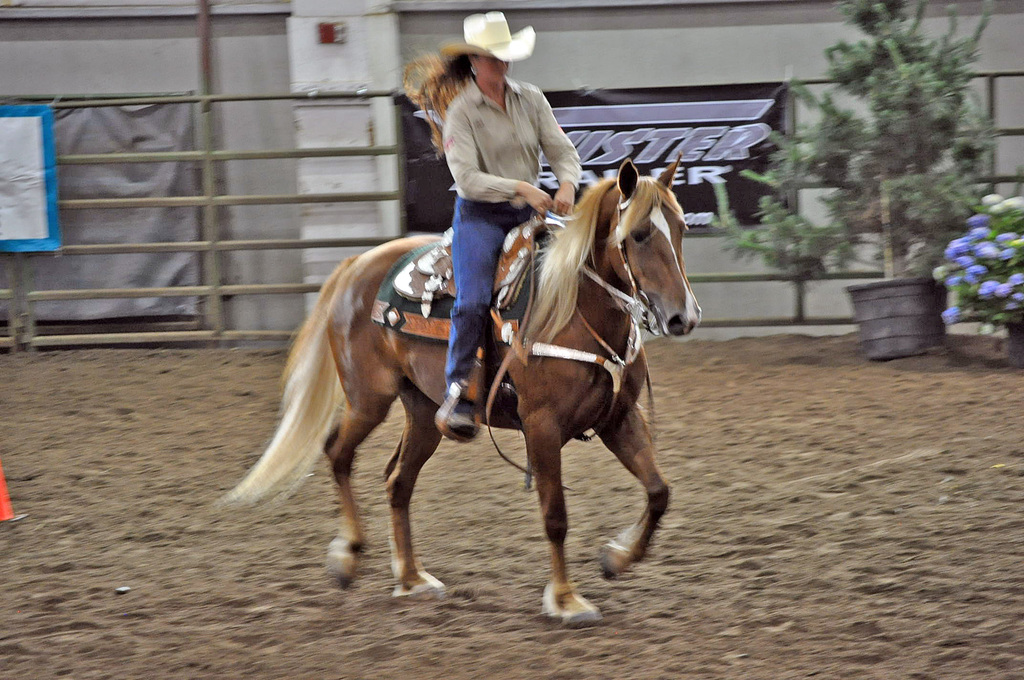horse: (211, 151, 701, 621)
